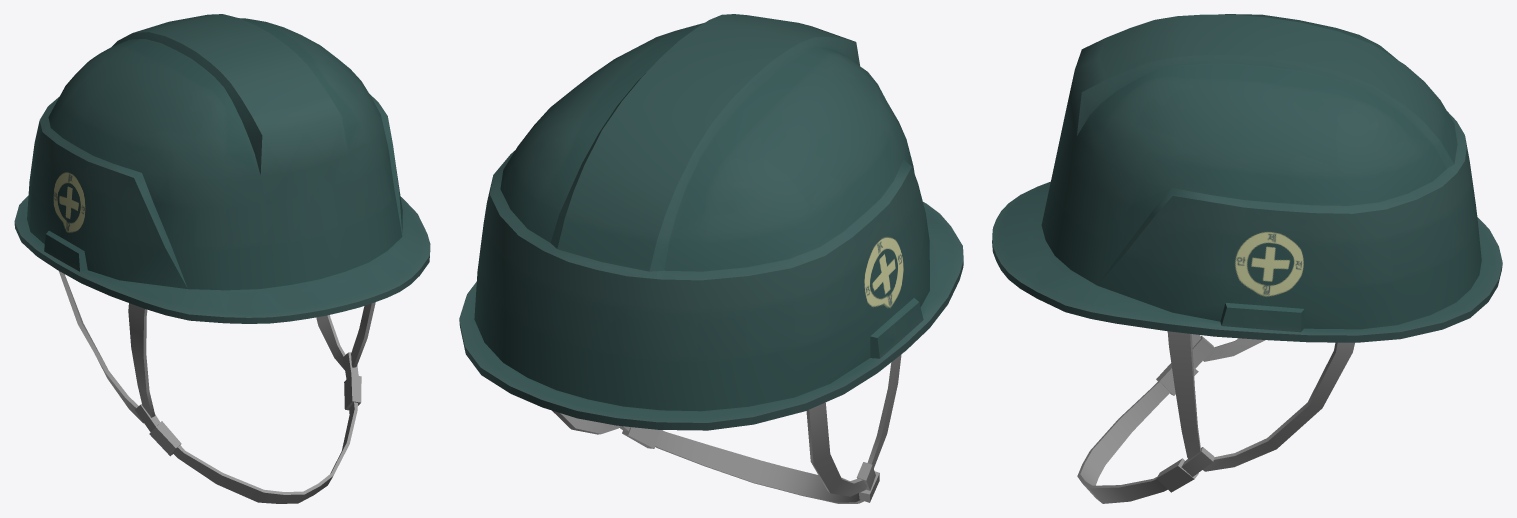
File: Meta_Helmet_M.FBX
3 renders of one model, left to right at view 1: azimuth 30°, elevation 25°; view 2: azimuth 150°, elevation 25°; view 3: azimuth 270°, elevation 25°, orthographic. The views are drawn at different scales.
Visible parts, largest first — view 1: Helmet_1, Helmet_2; view 2: Helmet_1, Helmet_2; view 3: Helmet_1, Helmet_2.
Boxes of the visible parts, left/top/right/bottom form: Helmet_1: left=14, top=14, right=430, bottom=323; Helmet_2: left=59, top=271, right=375, bottom=503; Helmet_1: left=459, top=14, right=963, bottom=430; Helmet_2: left=552, top=354, right=901, bottom=503; Helmet_1: left=992, top=14, right=1502, bottom=342; Helmet_2: left=1077, top=331, right=1354, bottom=503.
Bounding box in the file's own units: 22.24 × 27.26 × 27.03.
